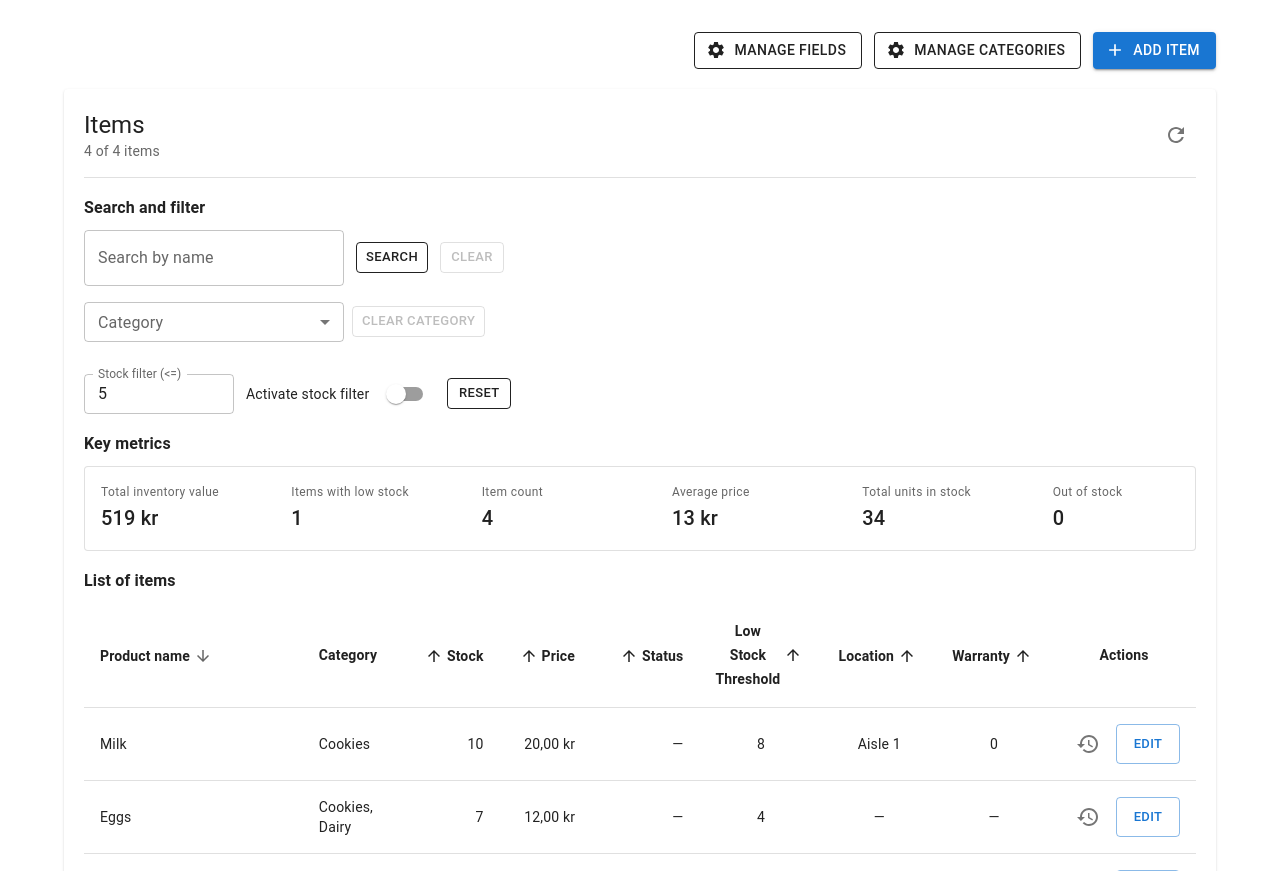
it: ItemPage › add item and see 'Item added'
The image size is (1280, 871).
Expected: the text "Milk" is shown, [100,736,127,752]
Click the button "Add item" at {"x": 1155, "y": 50}, box [1093,32,1216,68]
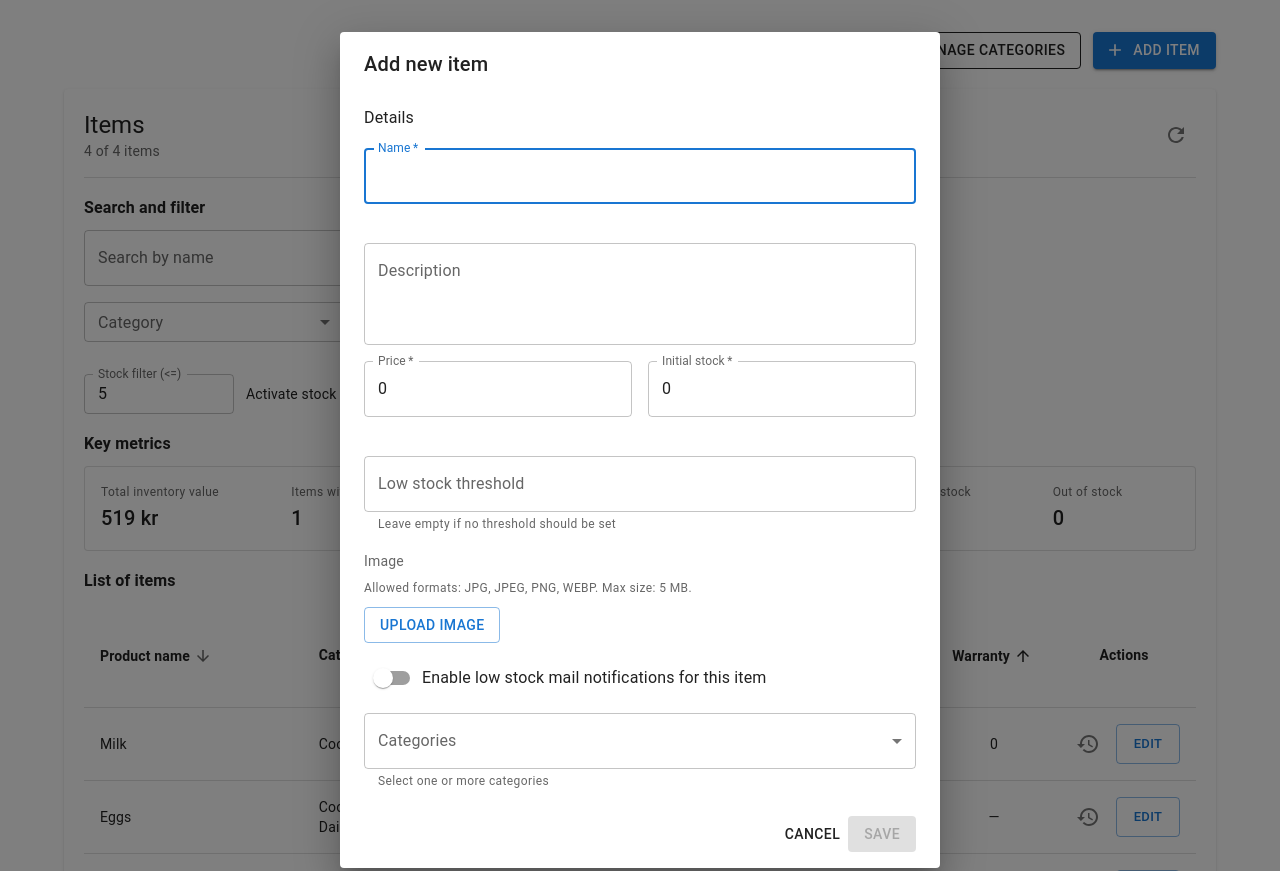
Type "Keyboard" into the field labelled "Name *" at {"x": 640, "y": 176}, box [364,148,916,204]
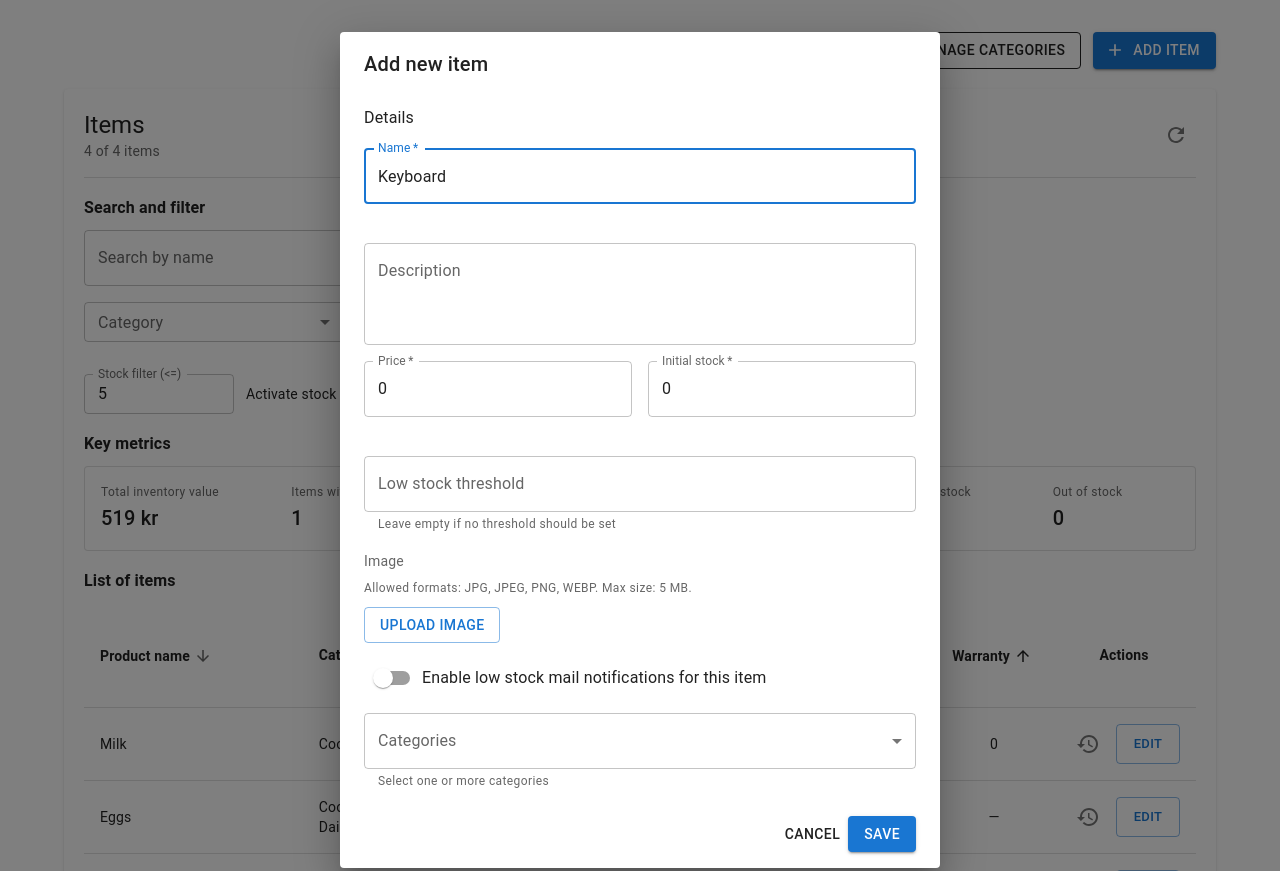
Replace the text in the number field labelled "Price *" with "100" at {"x": 498, "y": 389}, box [364,361,632,417]
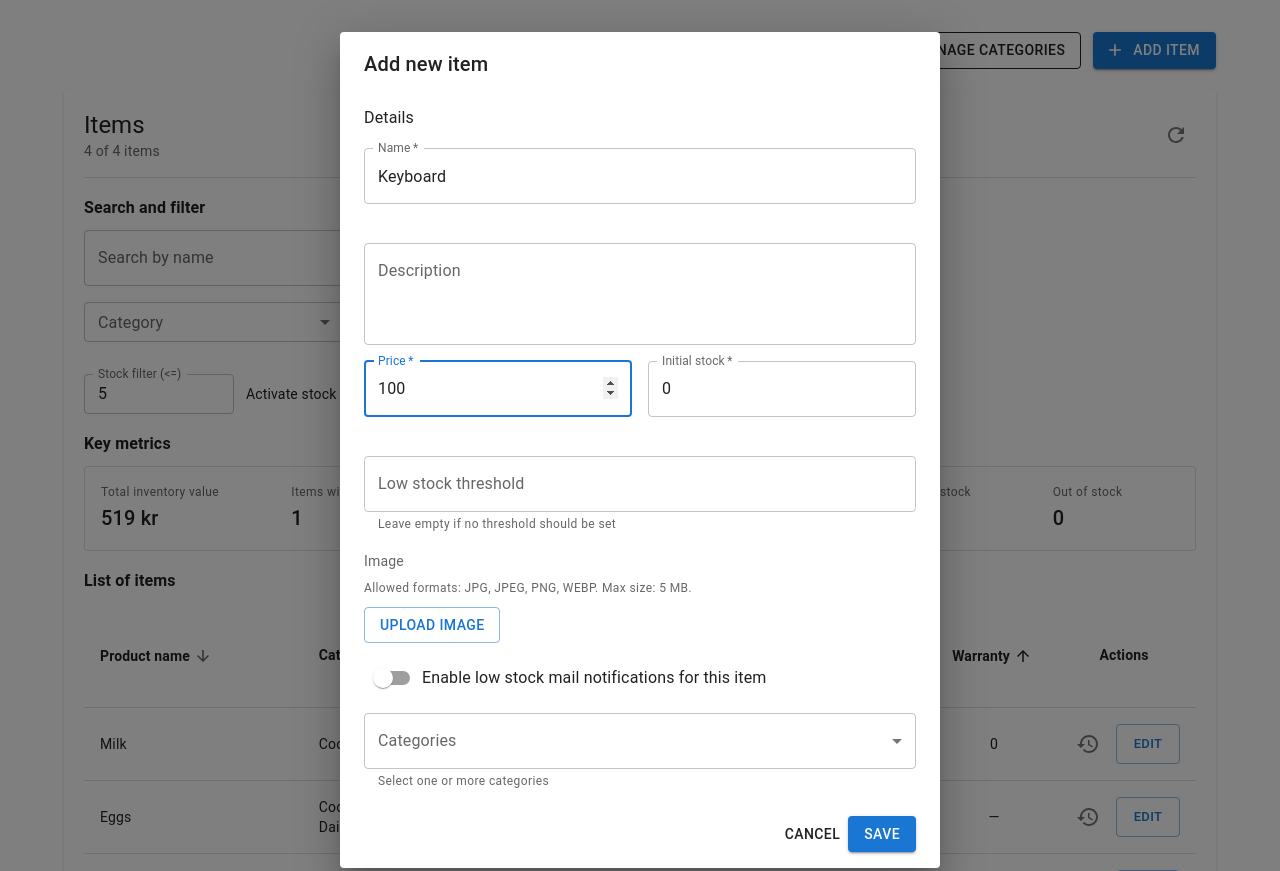
Replace the text in the number field labelled "Initial stock *" with "5" at {"x": 782, "y": 389}, box [648,361,916,417]
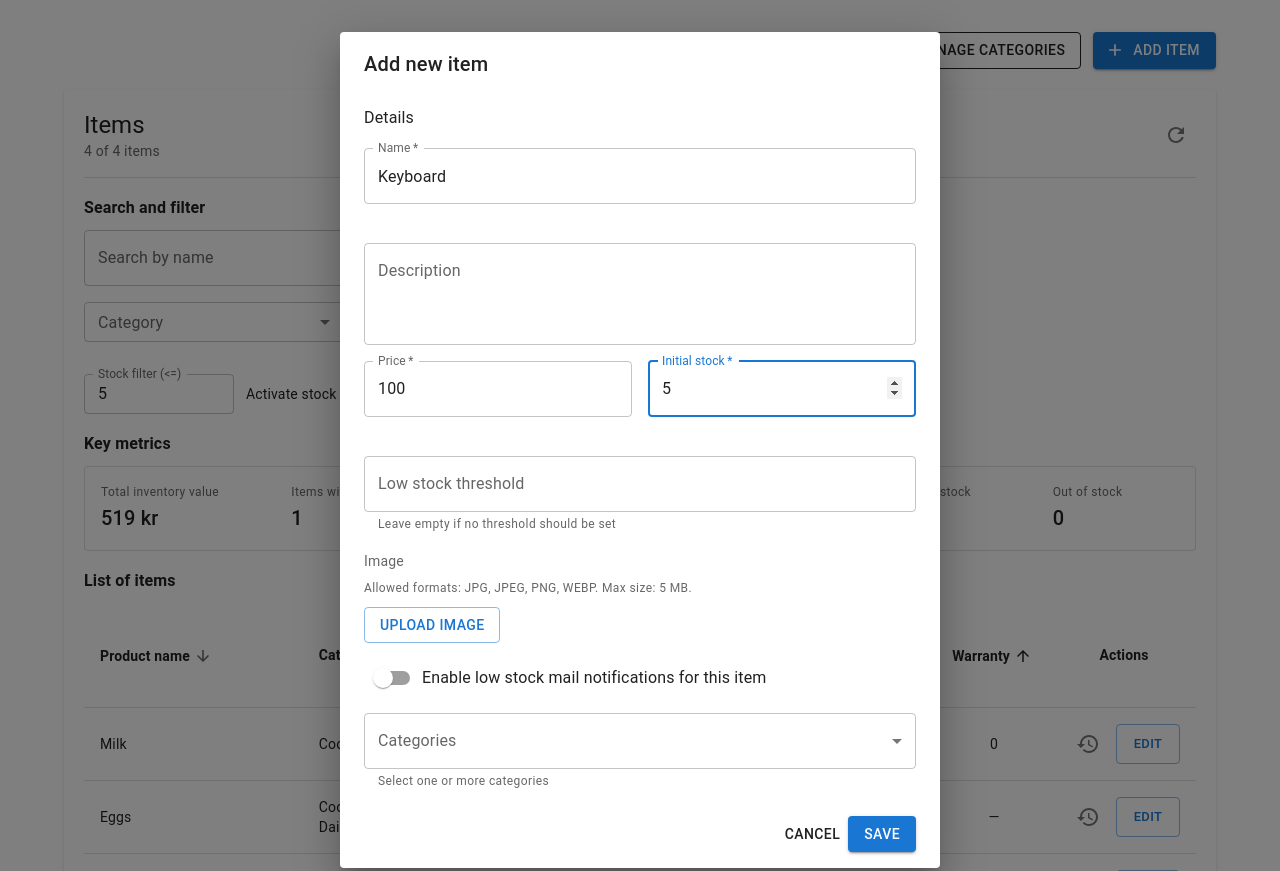
Click the button "Save" at {"x": 882, "y": 834}, box [848,816,916,852]
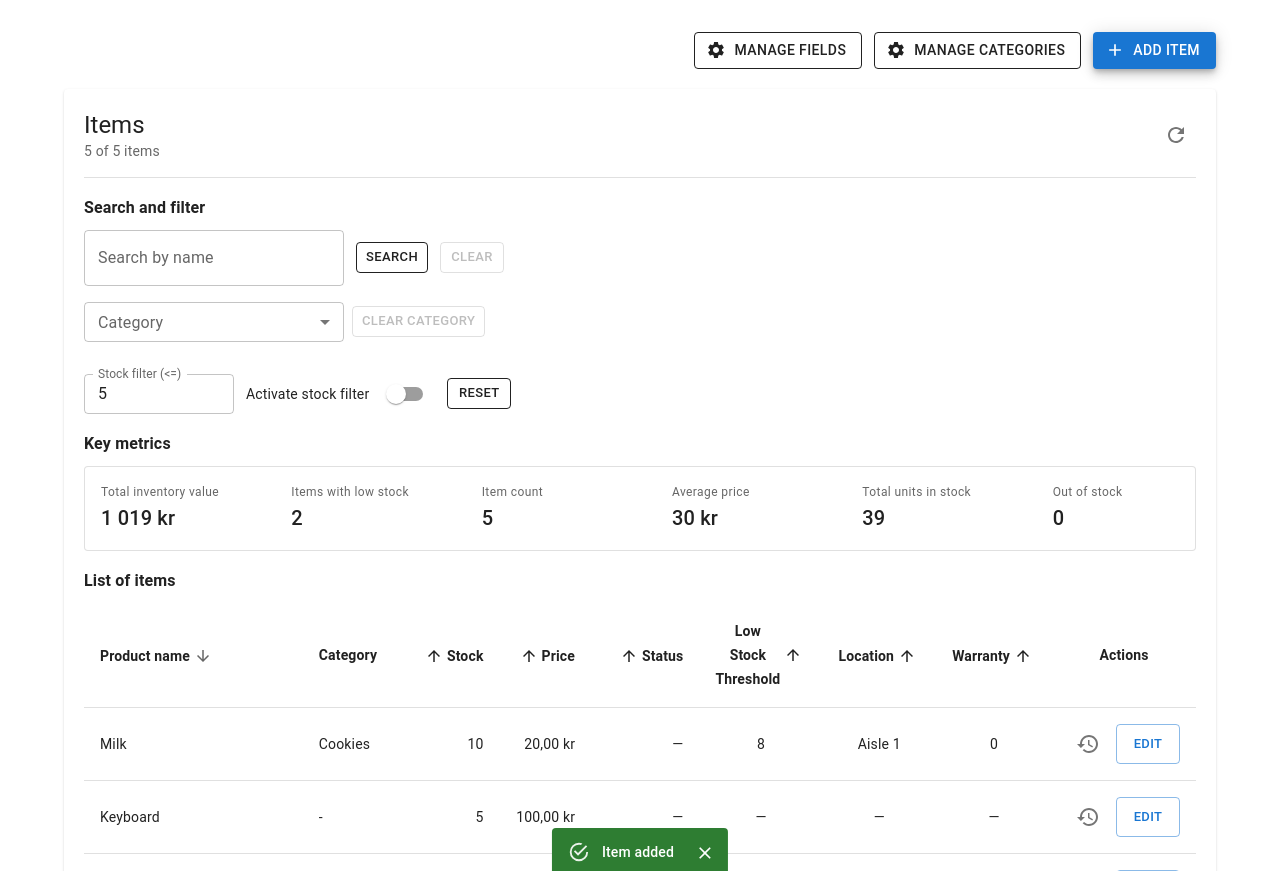
Now the text "Item added" is shown, box [602,844,674,860]
Now the text "Keyboard" is shown, box [100,809,160,825]
